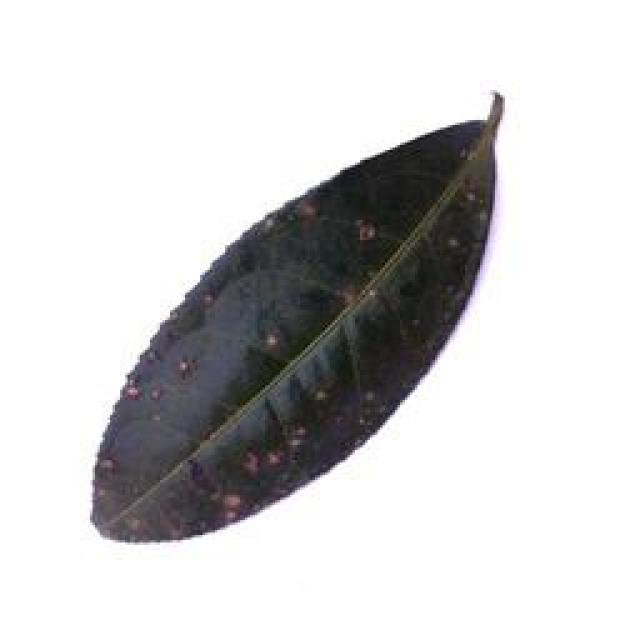Algal Leaf Spot: (89, 89, 509, 543)
